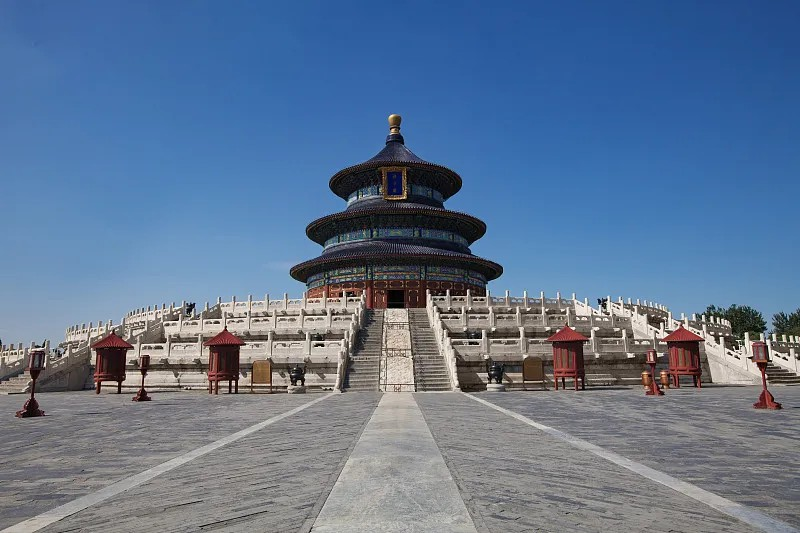Heaven: (288, 113, 504, 310)
